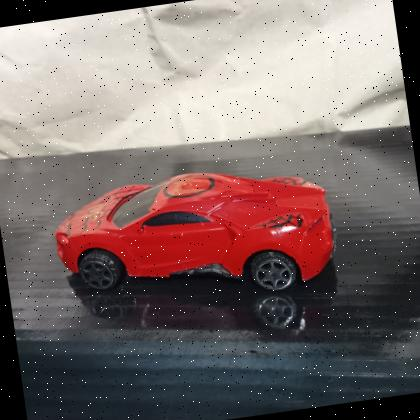Car: (42, 148, 349, 326)
